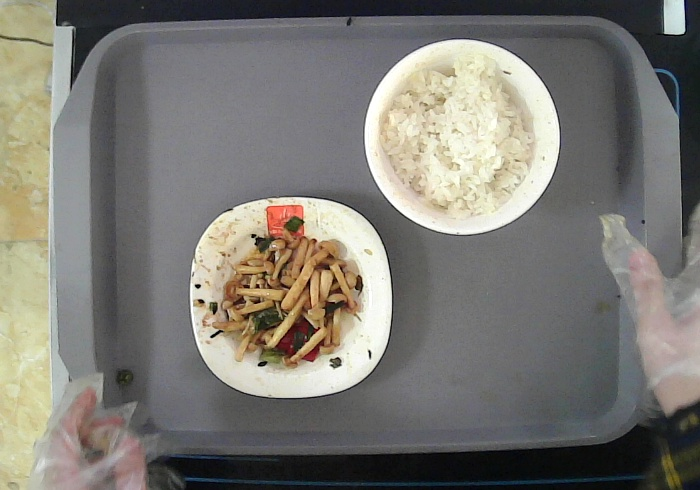SHKJ-Bai_Se_Si_Fang_Cai_Die: (186, 194, 395, 402)
SHKJ-Fan_Wan: (361, 37, 563, 236)
